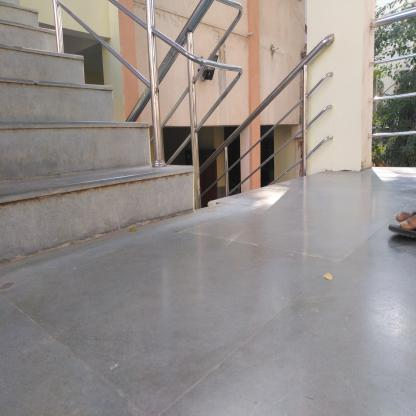stairs: (5, 80, 110, 281)
